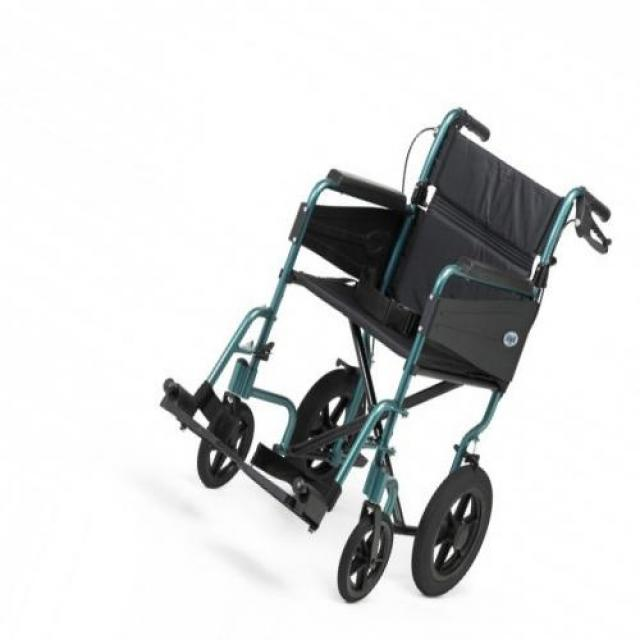wheelchair: (140, 88, 622, 622)
